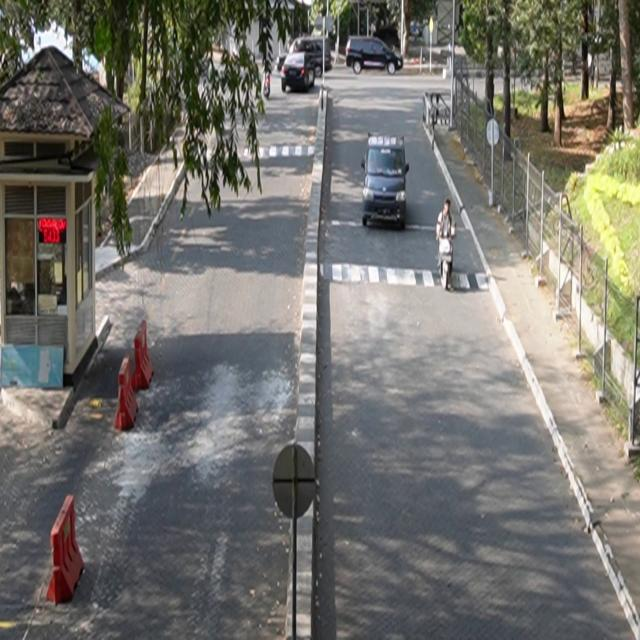car: (362, 133, 411, 231), (346, 37, 404, 76)
